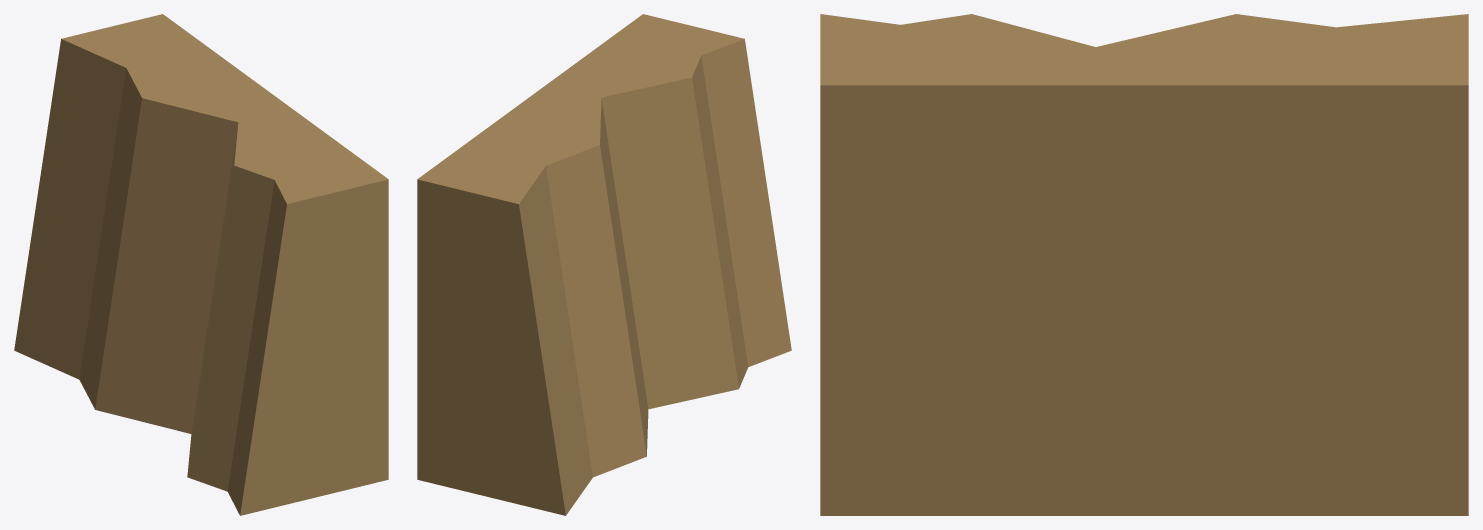
File: Brown_Cliff_Bottom_01.fbx
The picture shows the model from 3 angles, left to right: view 1: azimuth 30°, elevation 25°; view 2: azimuth 150°, elevation 25°; view 3: azimuth 270°, elevation 25°; orthographic projection. The views are drawn at different scales.
Parts seen in each view (by area): view 1: Mesh1_Brown_Cliff_Bottom Model; view 2: Mesh1_Brown_Cliff_Bottom Model; view 3: Mesh1_Brown_Cliff_Bottom Model.
Part boxes in pixels (x1,y1,x2,y2): Mesh1_Brown_Cliff_Bottom Model: (14, 14, 388, 515); Mesh1_Brown_Cliff_Bottom Model: (417, 14, 791, 515); Mesh1_Brown_Cliff_Bottom Model: (820, 14, 1468, 515).
Bounding box in the file's own units: 1.14 × 2.2 × 3.
